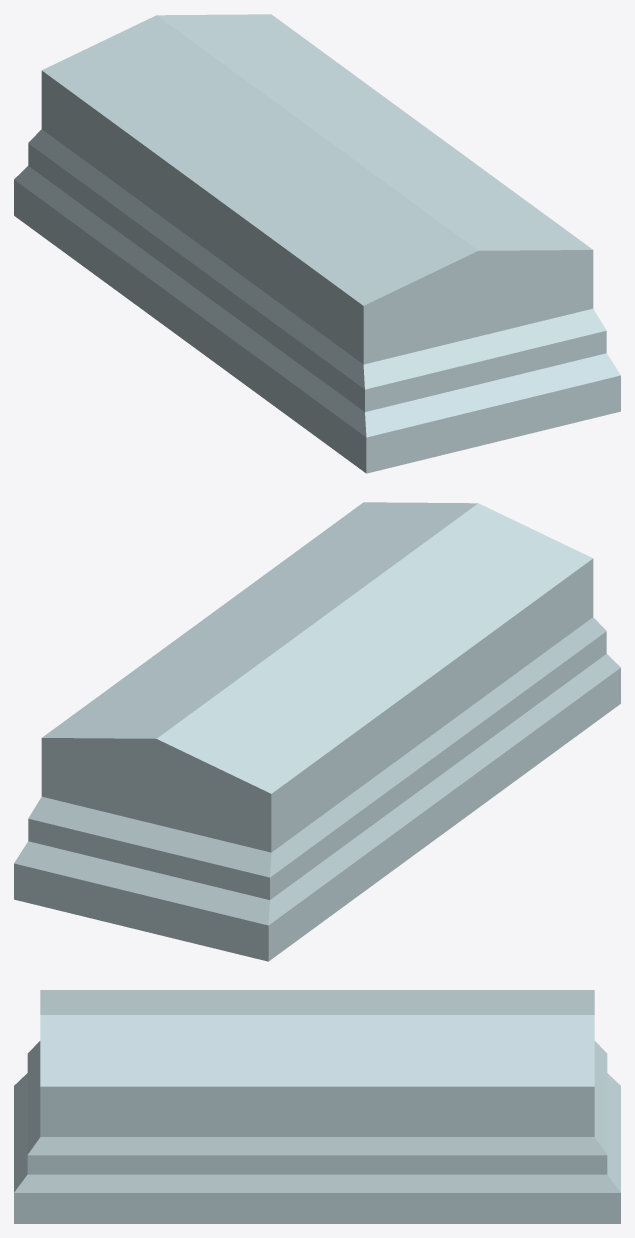
Rendered from gravestone_flat.glb.
The picture shows the model from 3 angles, top to bottom: view 1: azimuth 30°, elevation 25°; view 2: azimuth 150°, elevation 25°; view 3: azimuth 270°, elevation 25°; orthographic projection. The views are drawn at different scales.
Parts seen in each view (by area): view 1: gravestoneFlat; view 2: gravestoneFlat; view 3: gravestoneFlat.
Part boxes in pixels (bbox=[...]): gravestoneFlat: bbox=[14, 14, 620, 473]; gravestoneFlat: bbox=[14, 502, 620, 961]; gravestoneFlat: bbox=[14, 990, 620, 1223].
Size of the model in its own units: 0.472 by 0.32 by 1.13.
